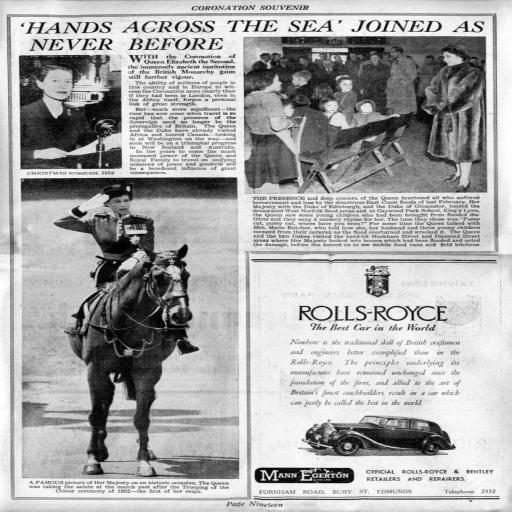horse: (66, 242, 196, 476)
